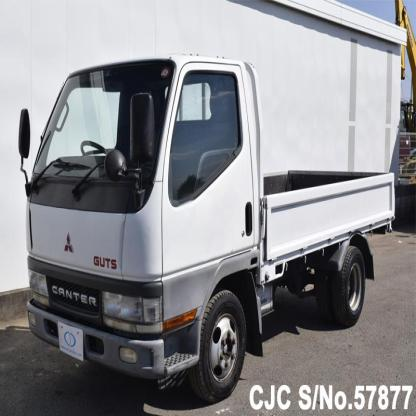truck: (19, 56, 395, 397)
